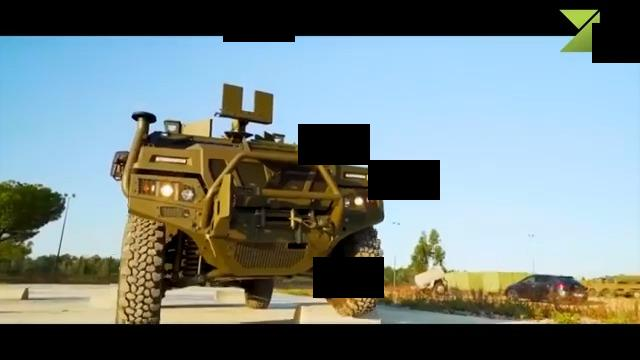MIL_HMMWV: (110, 110, 385, 324)
